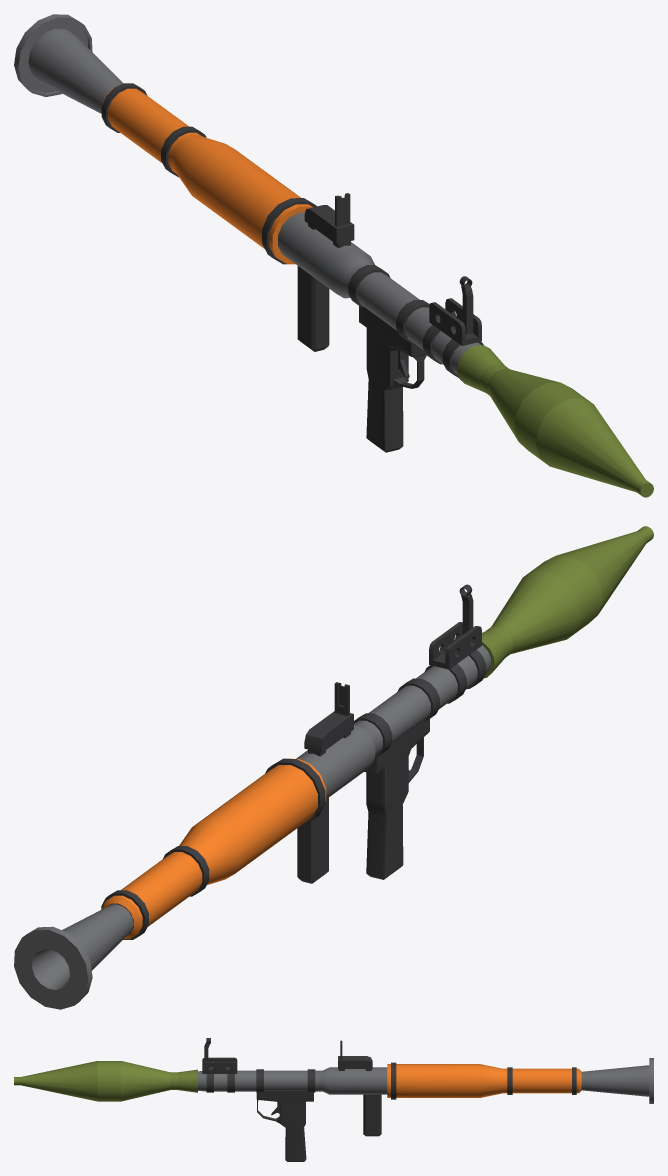
The model's file is RPG.fbx.
3 renders of one model, top to bottom at view 1: azimuth 30°, elevation 25°; view 2: azimuth 150°, elevation 25°; view 3: azimuth 270°, elevation 25°, orthographic. The views are drawn at different scales.
Visible parts, largest first — view 1: RPG_Base, pCylinder15; view 2: RPG_Base, pCylinder15; view 3: RPG_Base, pCylinder15.
Boxes of the visible parts, box(x1,y1,x2,y2) form: RPG_Base: box(14, 14, 483, 452); pCylinder15: box(457, 345, 653, 497); RPG_Base: box(14, 584, 490, 1009); pCylinder15: box(482, 526, 653, 678); RPG_Base: box(198, 1038, 653, 1161); pCylinder15: box(14, 1061, 197, 1101).
Bounding box in the file's own units: 15.24 × 44.43 × 212.
